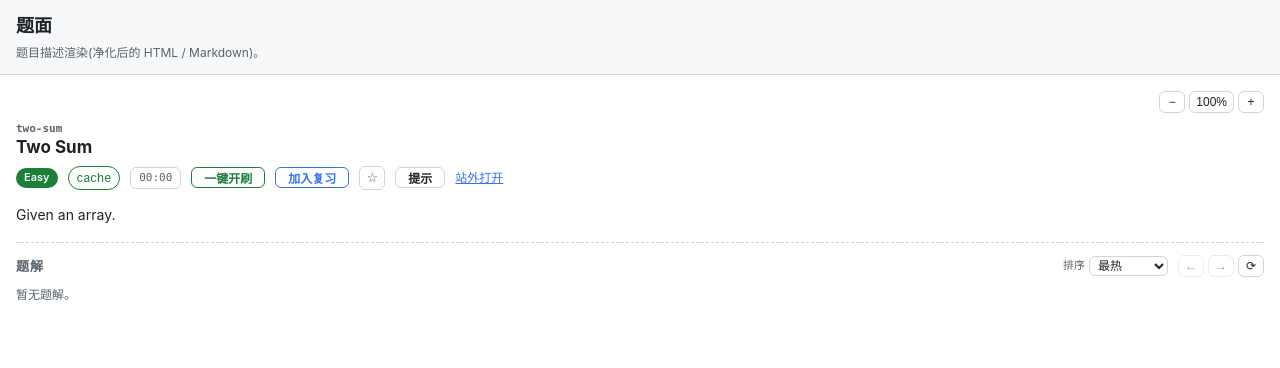
Test case: problem-view hints (WP73) › shows 无提示 for an empty hints array
Click the button with class "statement-header__hints" at (420,178), box top-left (395, 167), bottom-right (445, 188)
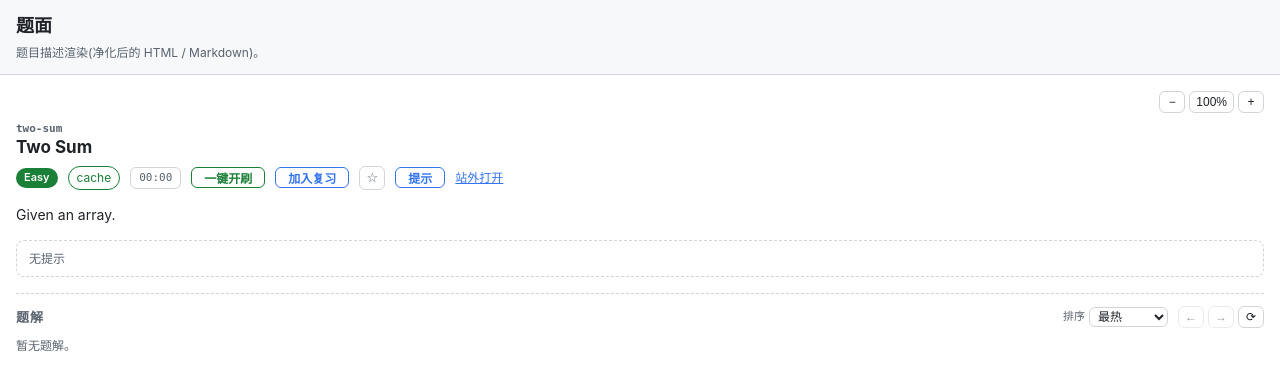
Result: the text with class "hints__state" reads "无提示" at top-left (29, 251), bottom-right (65, 266)
